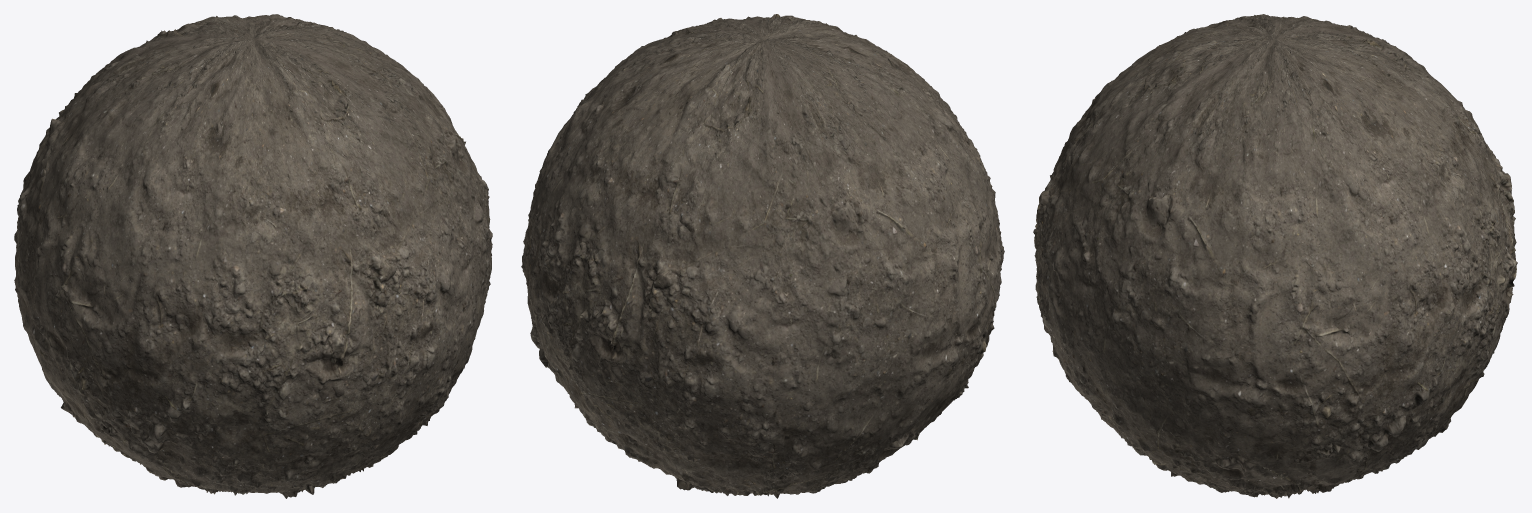
File: brown_mud_1k.gltf
3 renders of one model, left to right at view 1: azimuth 30°, elevation 25°; view 2: azimuth 150°, elevation 25°; view 3: azimuth 270°, elevation 25°, orthographic.
Parts seen in each view (by area): view 1: sphere_gltf; view 2: sphere_gltf; view 3: sphere_gltf.
Part boxes in pixels (x1=…): sphere_gltf: x1=14, y1=14, x2=492, y2=498; sphere_gltf: x1=521, y1=14, x2=1004, y2=498; sphere_gltf: x1=1033, y1=14, x2=1517, y2=498.
Bounding box in the file's own units: 1.31 × 1.32 × 1.31.
1 material, 1 textured.
